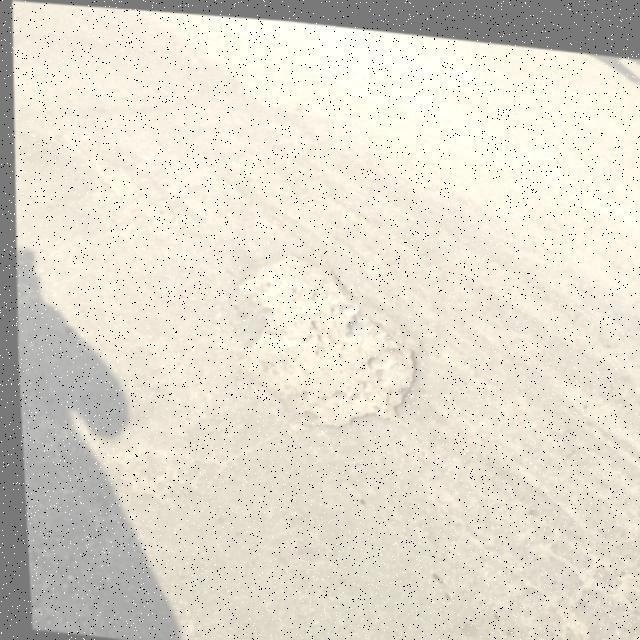pothole: (200, 234, 438, 441)
